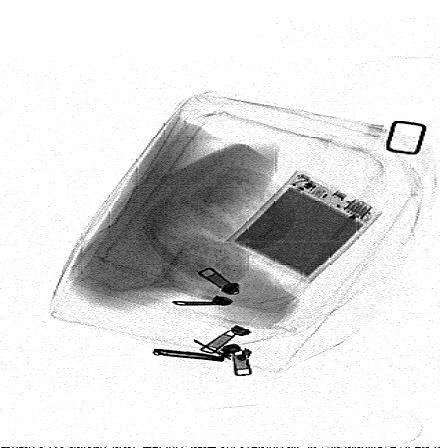Powerbank: (222, 170, 383, 284)
